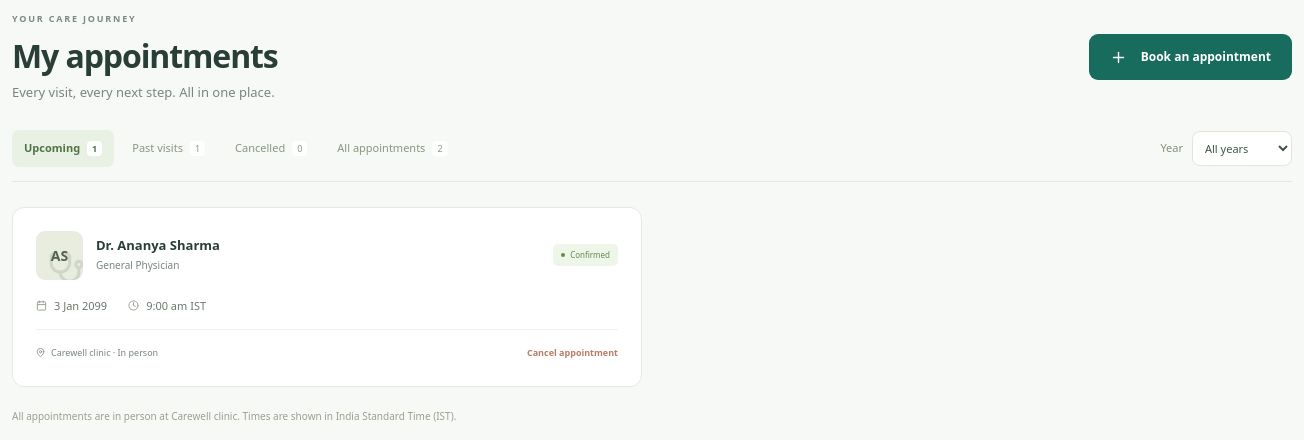
Test: patient interface › filters appointments by status and year
Expected: the text "3 Jan 2099" is shown, 36,298 -> 107,314
Click the button "All appointments 2": (392, 148) 325,130 -> 460,166
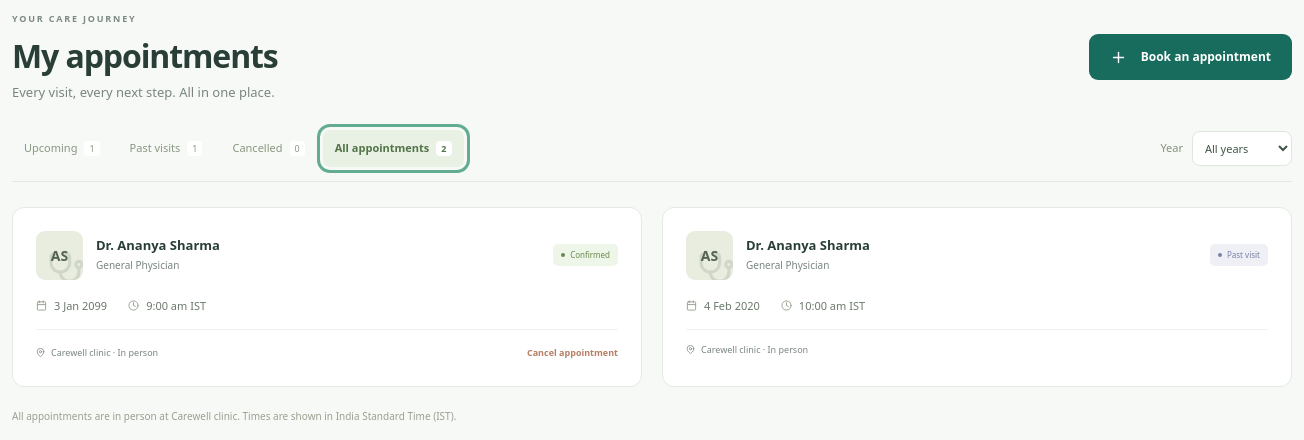
Select "2020" in the dropdown named "Filter appointments by year": (1242, 148) 1192,131 -> 1292,166
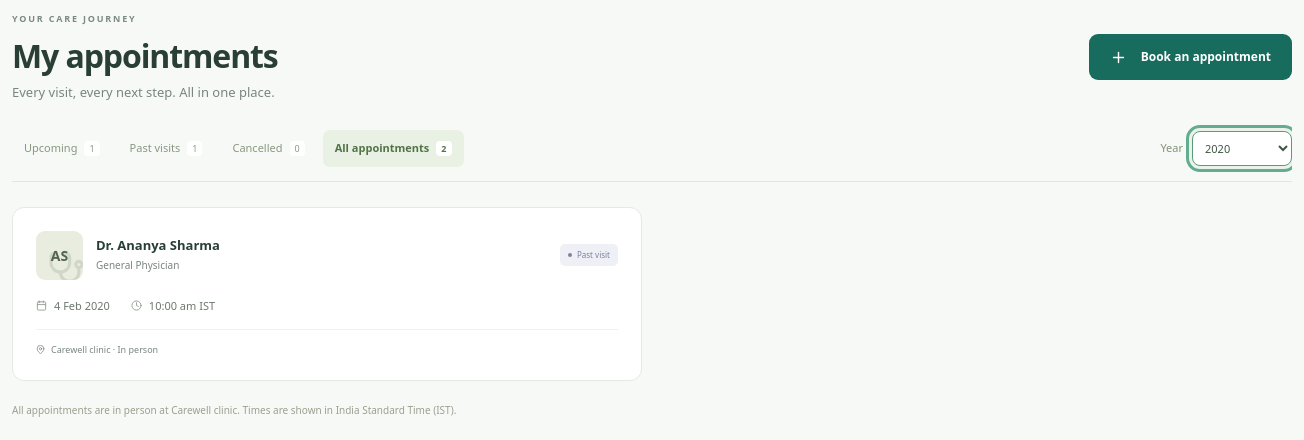
Now the text "4 Feb 2020" is shown, box 36,298 -> 110,314
Now the text "3 Jan 2099" is gone
